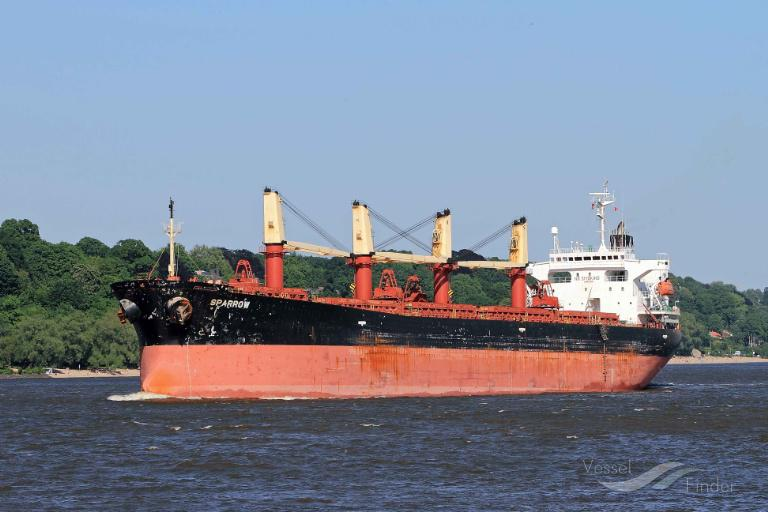OCR: (206, 294, 256, 314)
